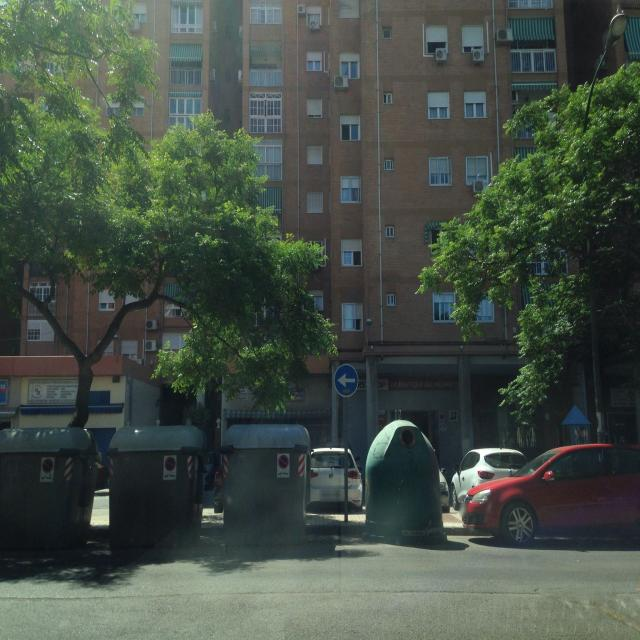forb_stopping: (164, 456, 176, 472)
